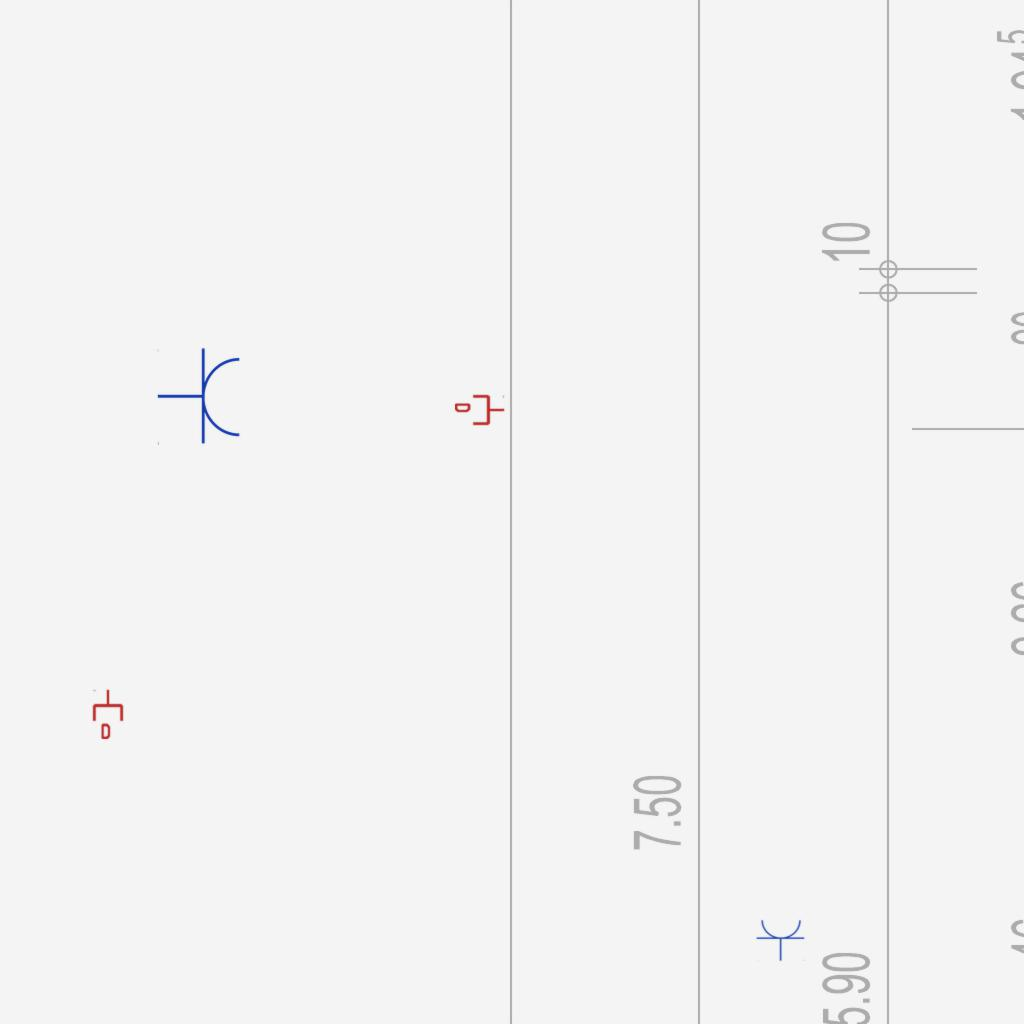Datenanschluss_einfach: (455, 393, 505, 427), (91, 689, 125, 739)
Schukosteckdose_einfach: (157, 347, 244, 447), (756, 918, 806, 961)
